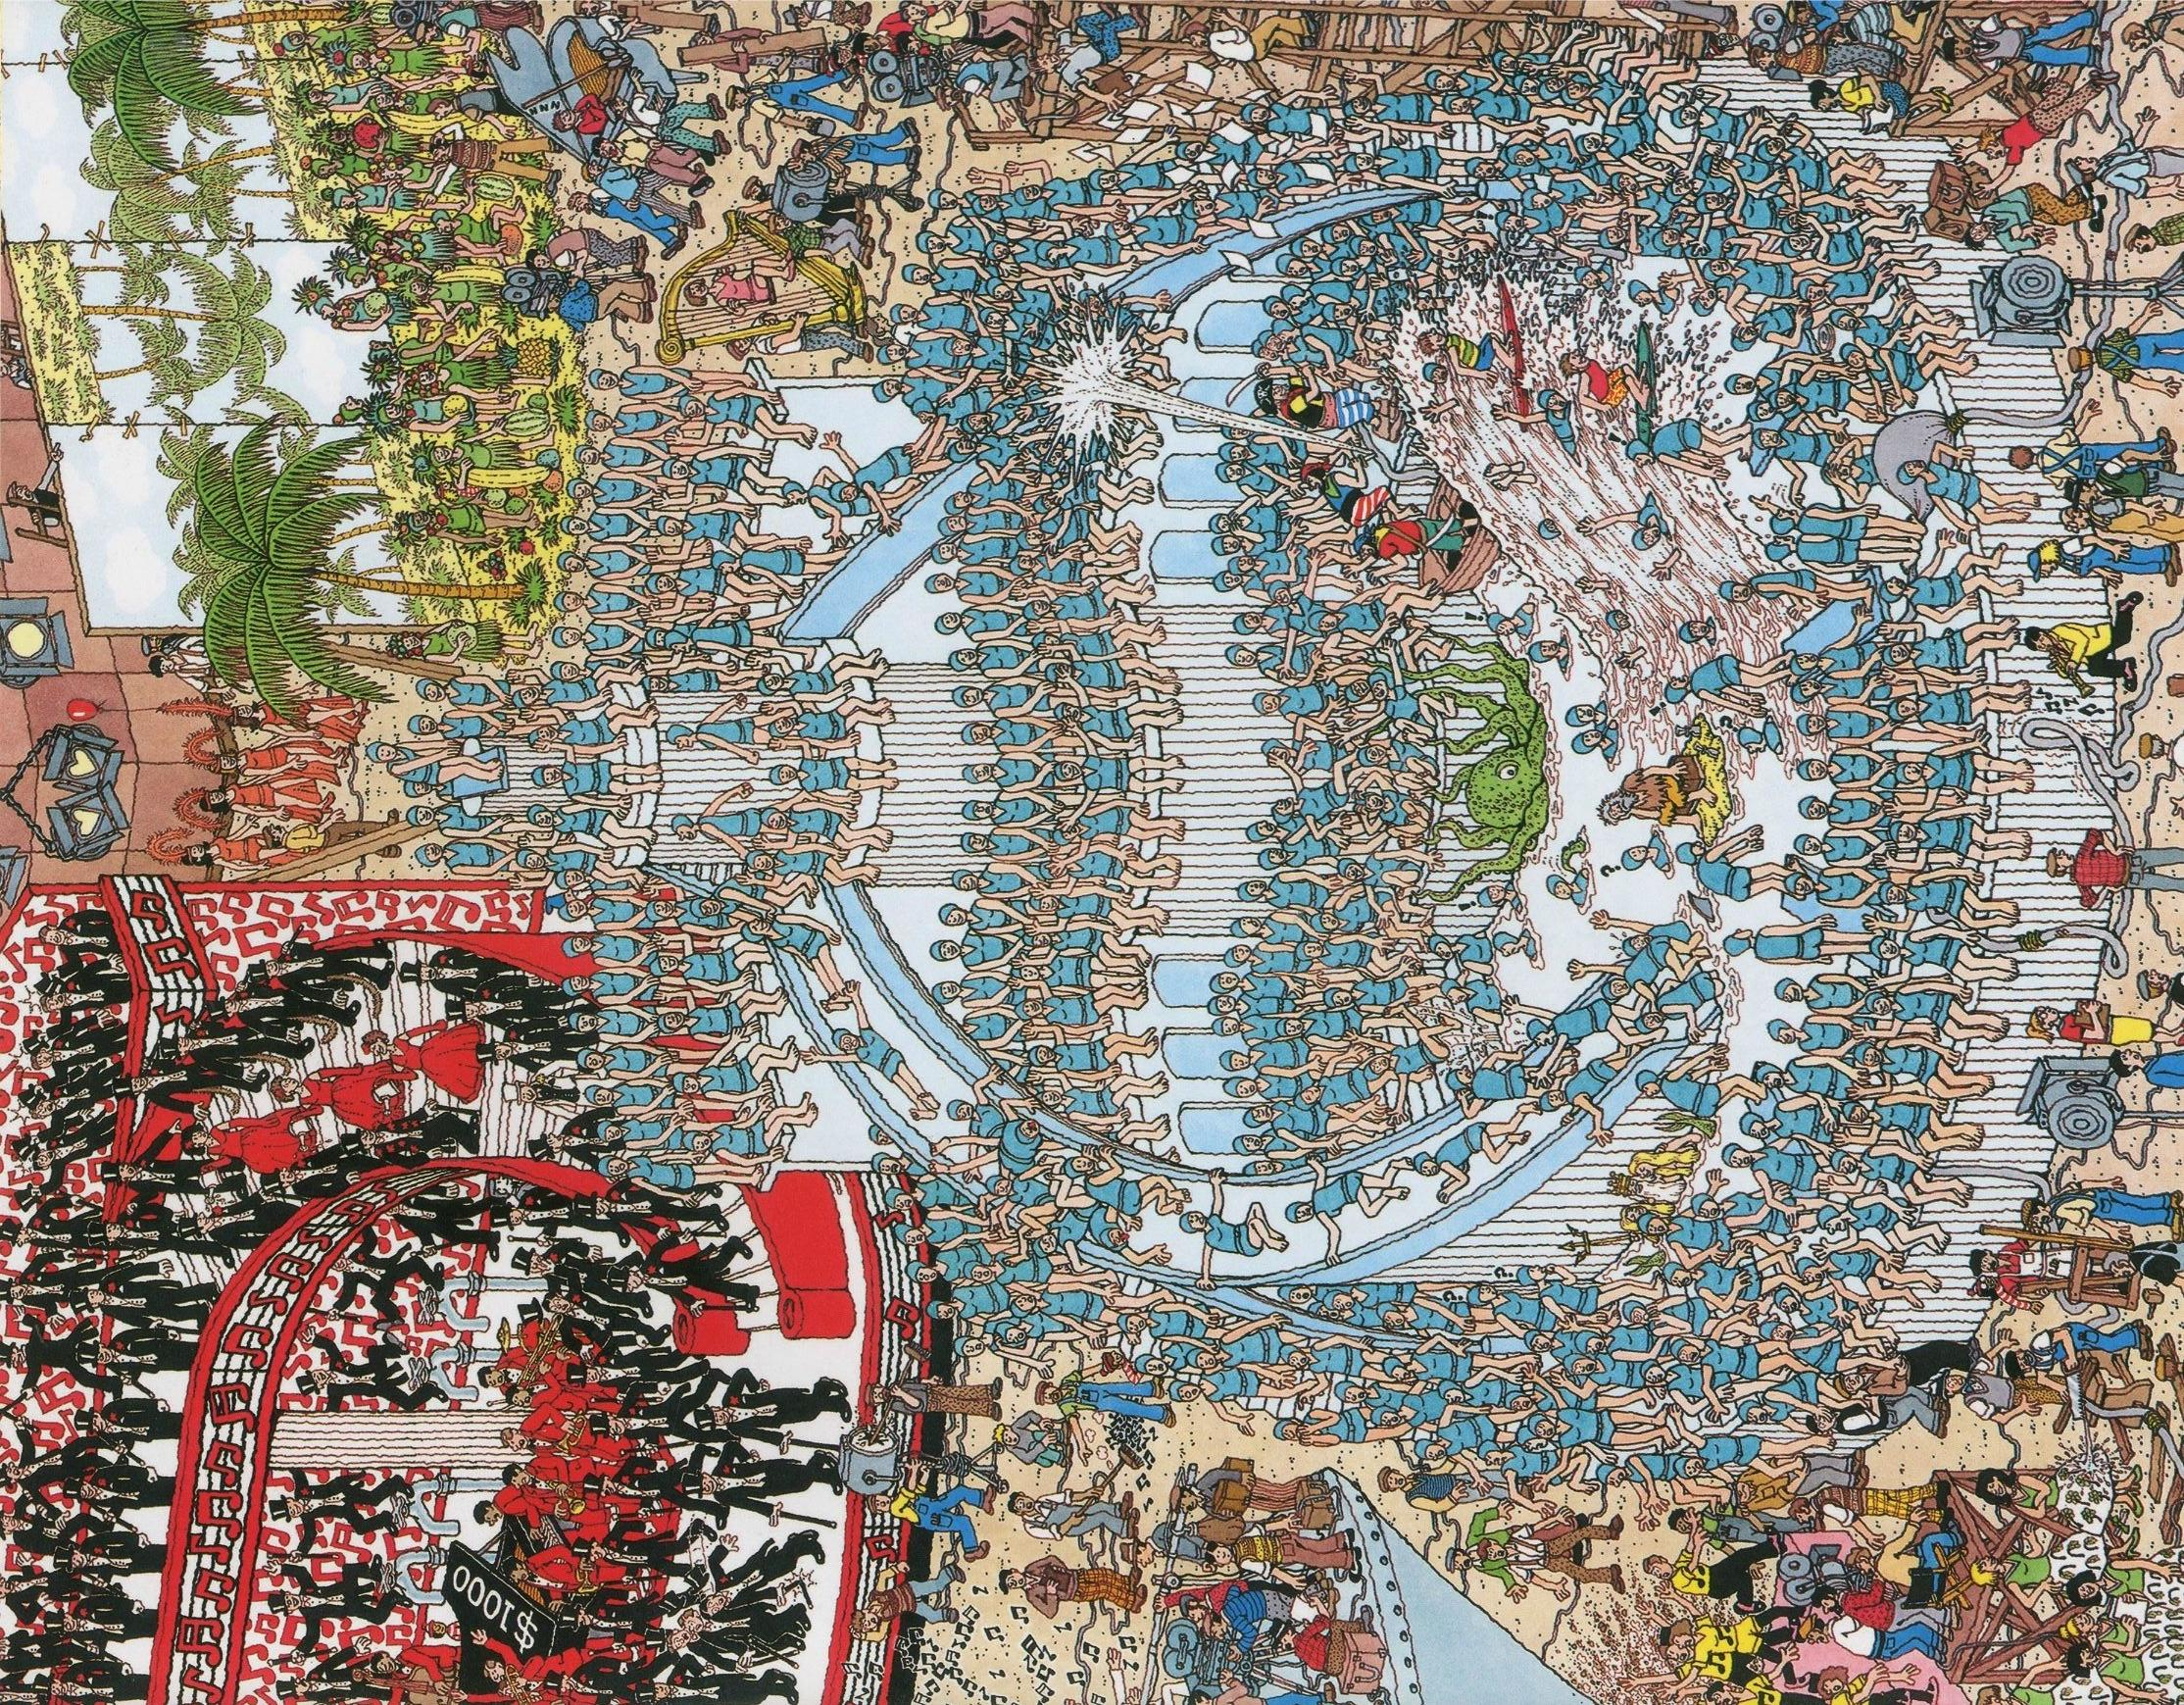waldos: (1698, 30, 1750, 64)
